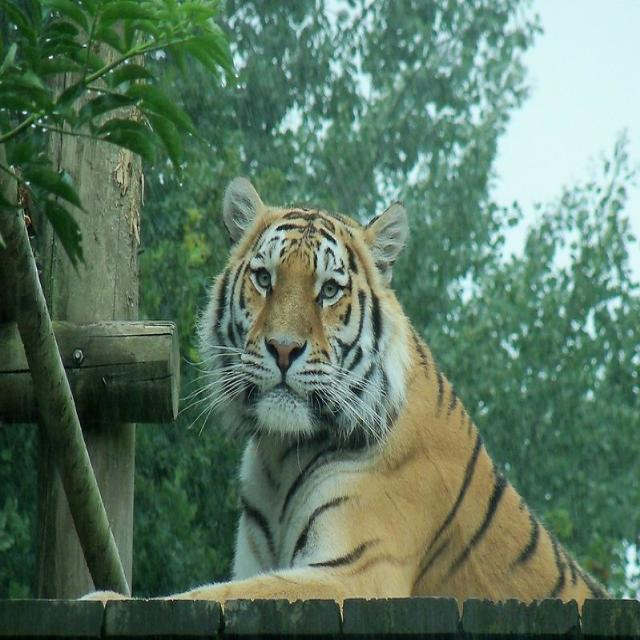Tiger: (176, 154, 578, 600)
